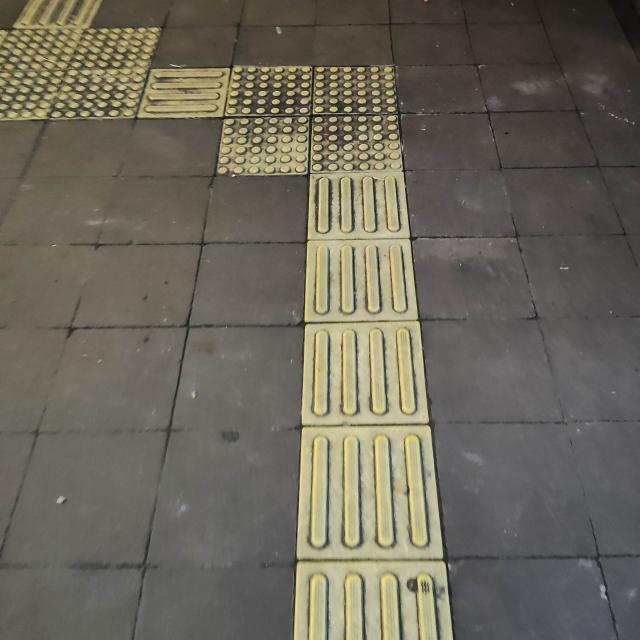kiri: (150, 44, 430, 228)
